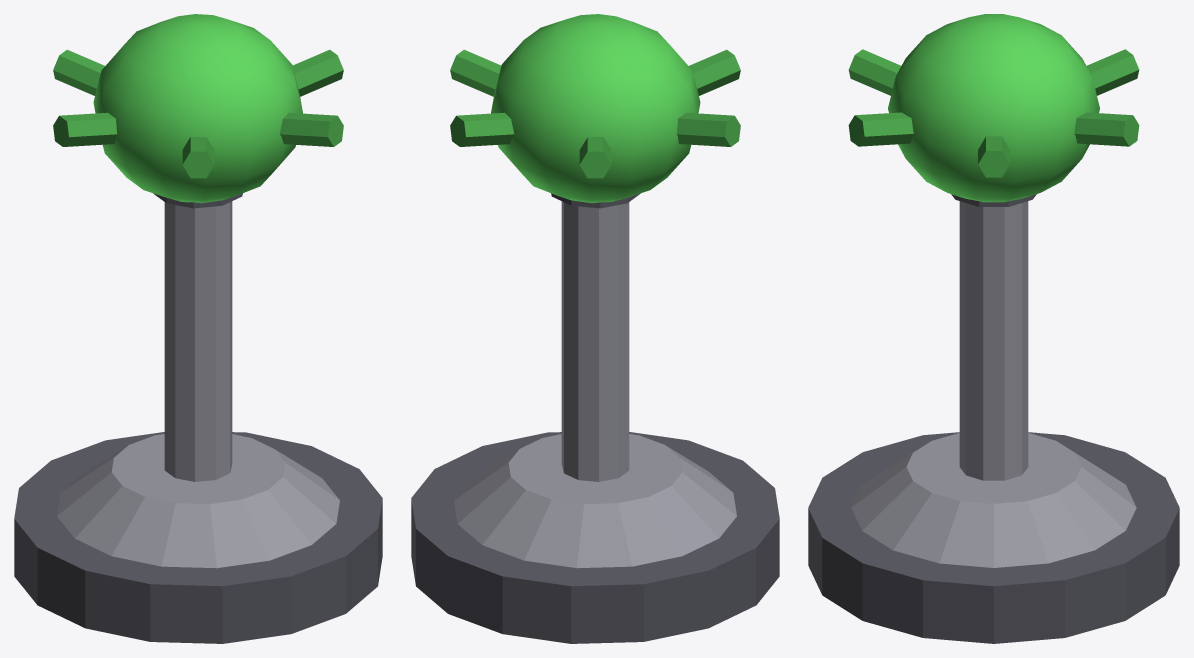
Rendered from Sprinkler_UncommonSprinkler.fbx.
3 views of the same model, side by side, from view 1: azimuth 30°, elevation 25°; view 2: azimuth 150°, elevation 25°; view 3: azimuth 270°, elevation 25° (orthographic).
Parts seen in each view (by area): view 1: Base_UncommonSprinkler, Cabeca_UncommonSprinkler, Cano_UncommonSprinkler; view 2: Base_UncommonSprinkler, Cabeca_UncommonSprinkler, Cano_UncommonSprinkler; view 3: Base_UncommonSprinkler, Cabeca_UncommonSprinkler, Cano_UncommonSprinkler.
Part boxes in pixels (<box>): Base_UncommonSprinkler: <box>14,432,382,643</box>; Cabeca_UncommonSprinkler: <box>53,14,343,203</box>; Cano_UncommonSprinkler: <box>153,193,242,481</box>; Base_UncommonSprinkler: <box>411,432,779,643</box>; Cabeca_UncommonSprinkler: <box>450,14,740,203</box>; Cano_UncommonSprinkler: <box>551,193,640,481</box>; Base_UncommonSprinkler: <box>808,432,1179,643</box>; Cabeca_UncommonSprinkler: <box>848,14,1139,202</box>; Cano_UncommonSprinkler: <box>951,194,1036,480</box>.
Bounding box in the file's own units: 1.4 × 2.25 × 1.4.
Materials: 1 (1 with a texture image).
